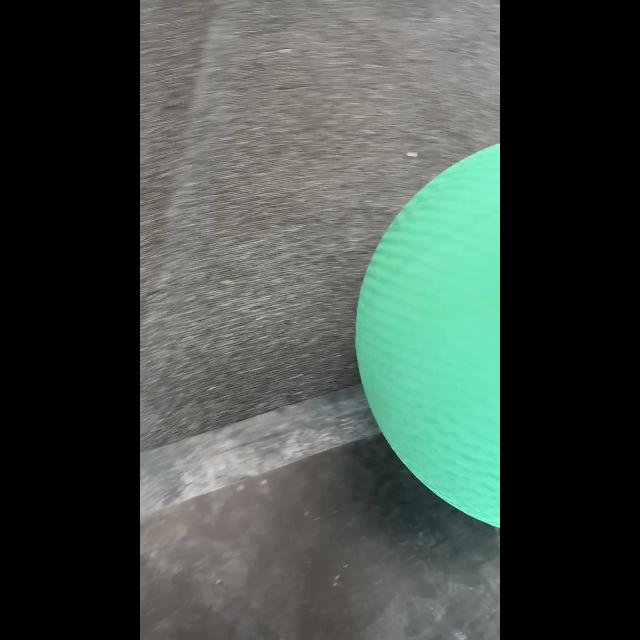ALGAE: (354, 142, 498, 528)
